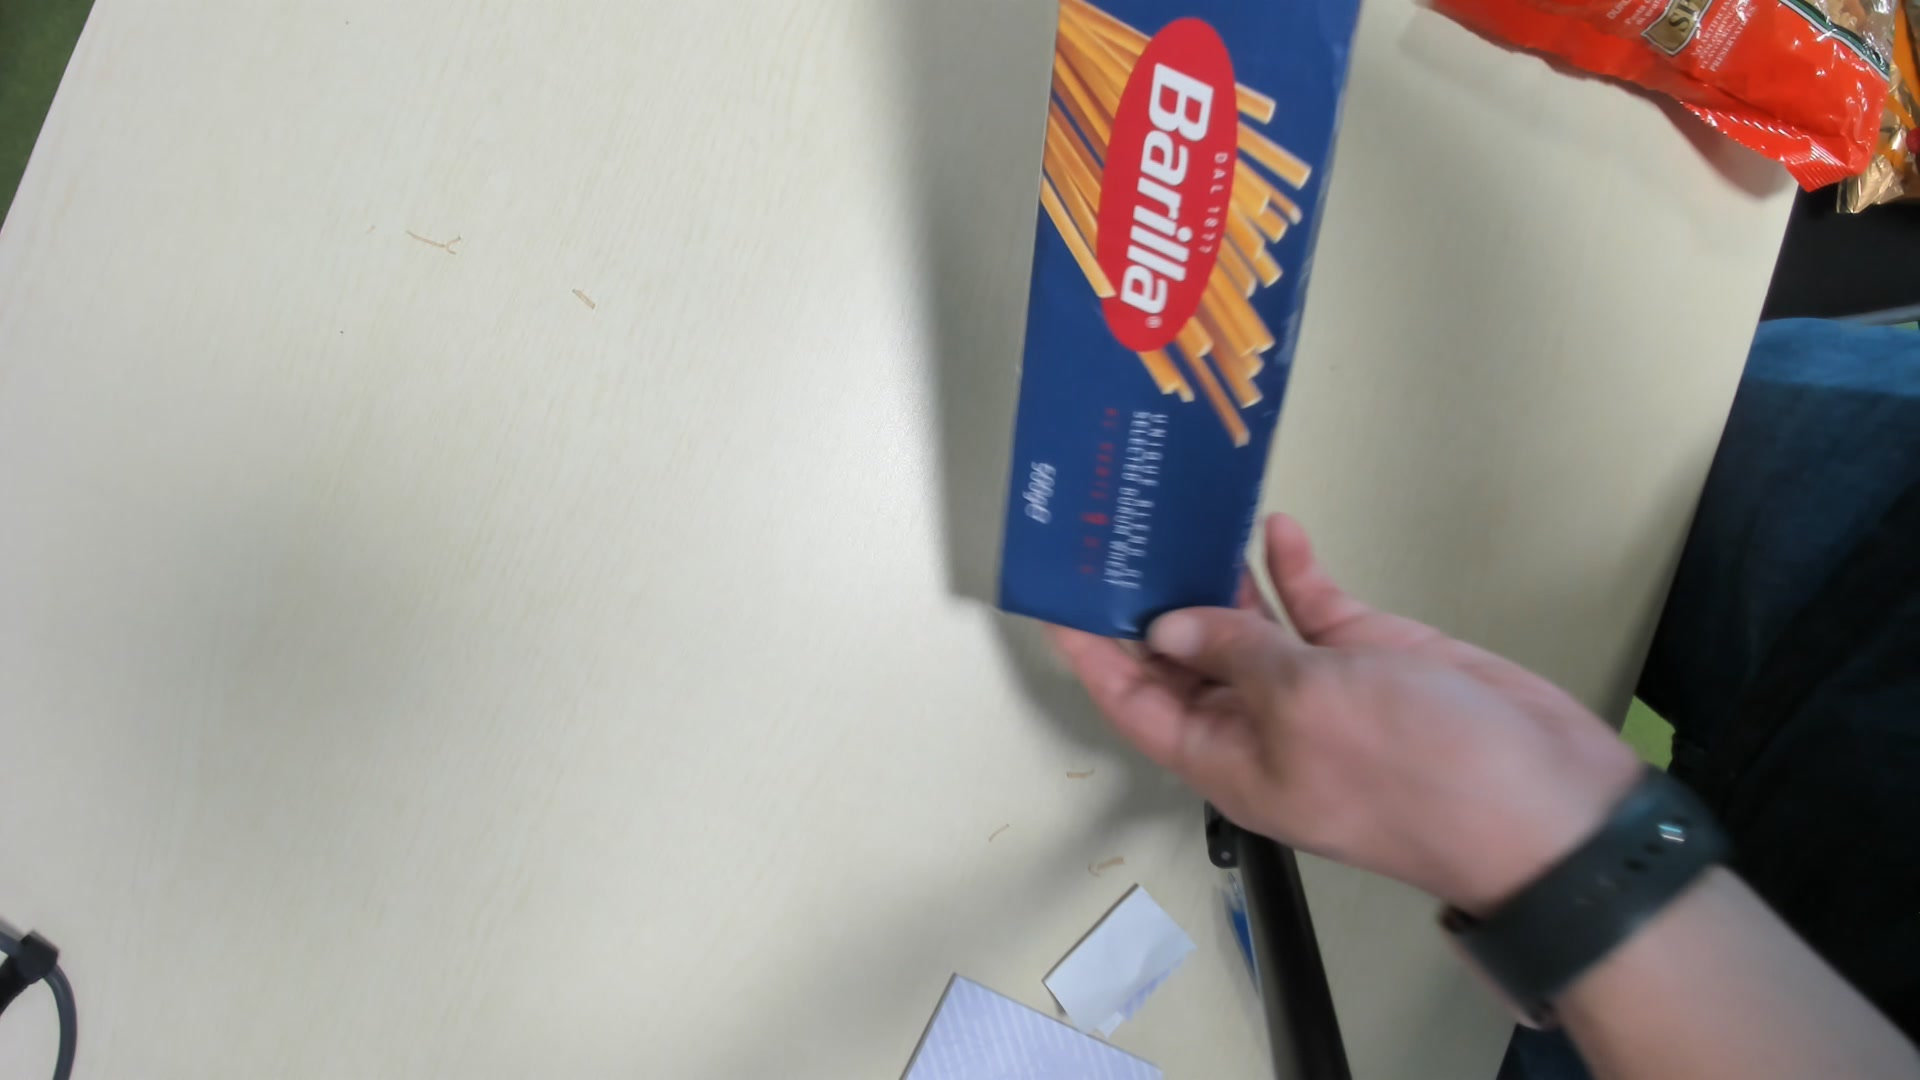Pasta_500-599g_NonHalal_NonHealthy: (992, 7, 1356, 647)
